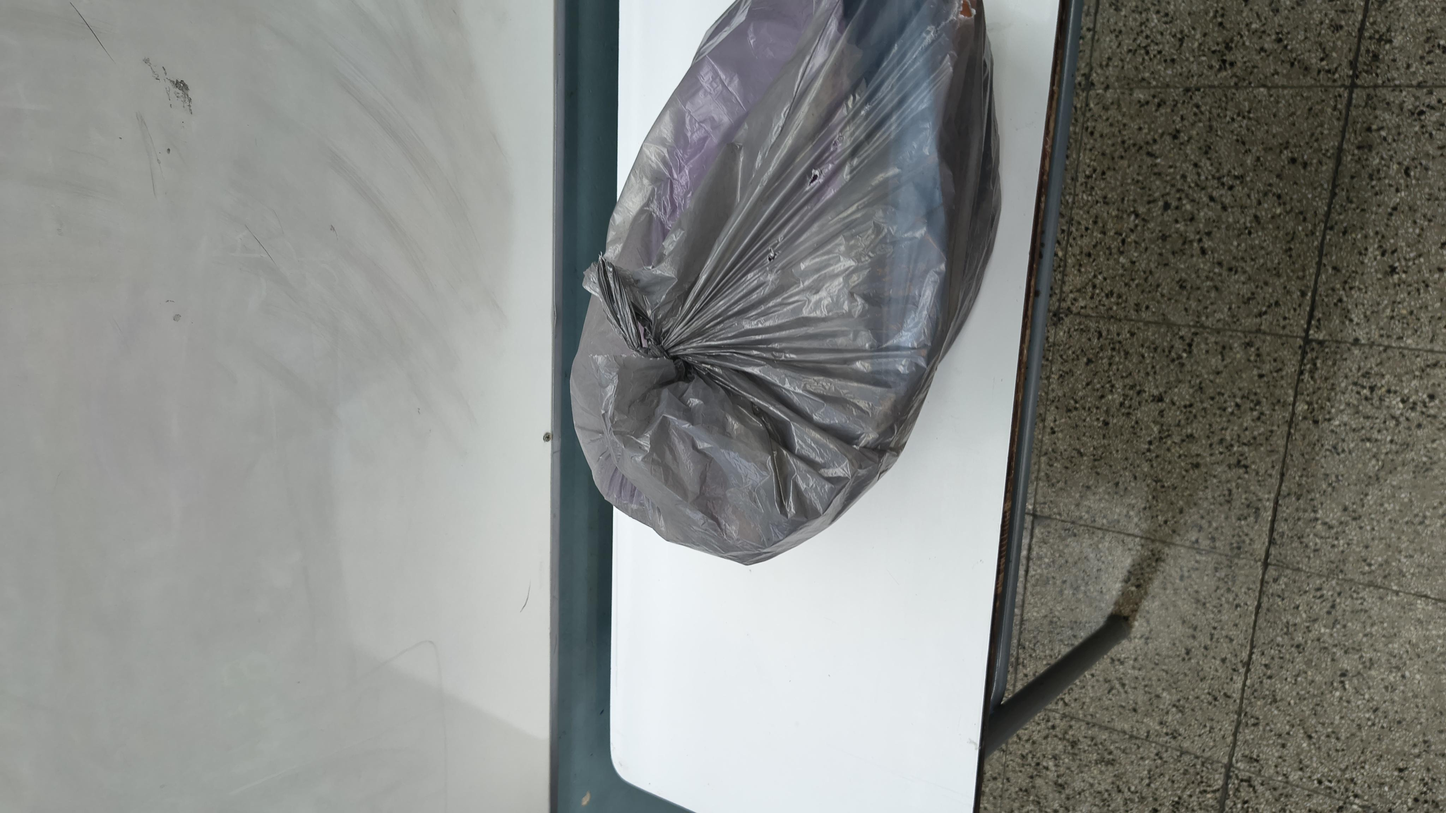Garbage: (402, 298, 1446, 595)
